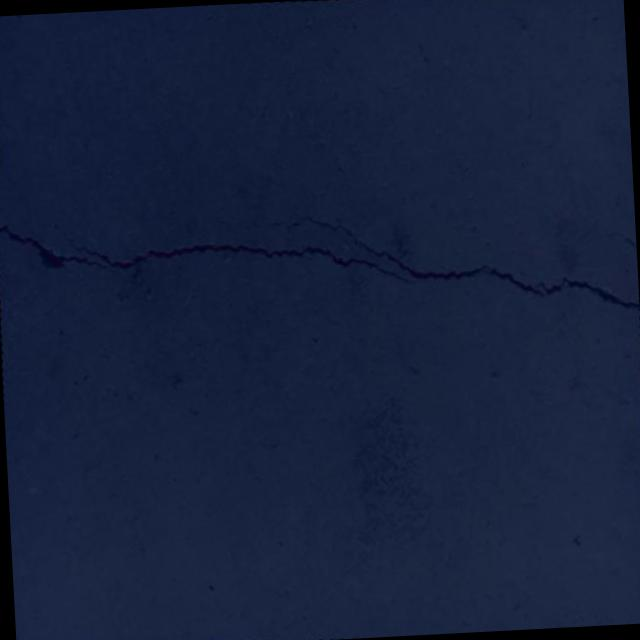crack: (0, 191, 639, 342), (604, 229, 636, 248), (223, 217, 250, 228)
